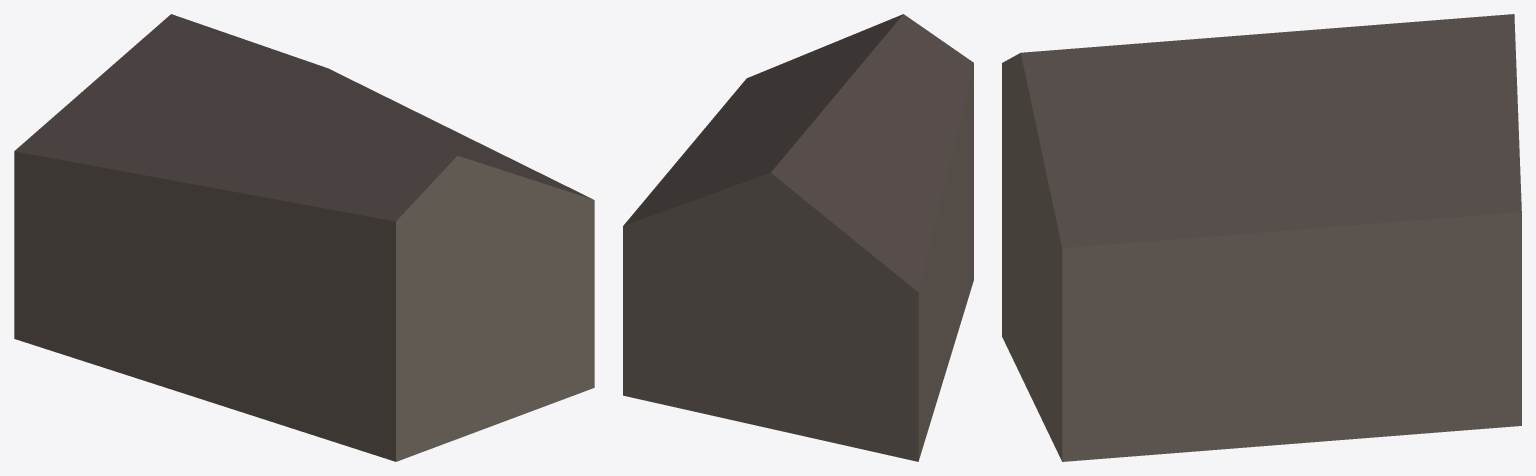
3 views of the same model, side by side, from view 1: azimuth 30°, elevation 25°; view 2: azimuth 150°, elevation 25°; view 3: azimuth 270°, elevation 25° (orthographic). The views are drawn at different scales.
Parts seen in each view (by area): view 1: HP-w1376988833; view 2: HP-w1376988833; view 3: HP-w1376988833.
Part boxes in pixels (box(x1,y1,x2,y2)): HP-w1376988833: box(14, 14, 594, 461); HP-w1376988833: box(623, 14, 973, 461); HP-w1376988833: box(1002, 14, 1521, 461).
Size of the model in its own units: 12.9 by 9.07 by 13.23.
